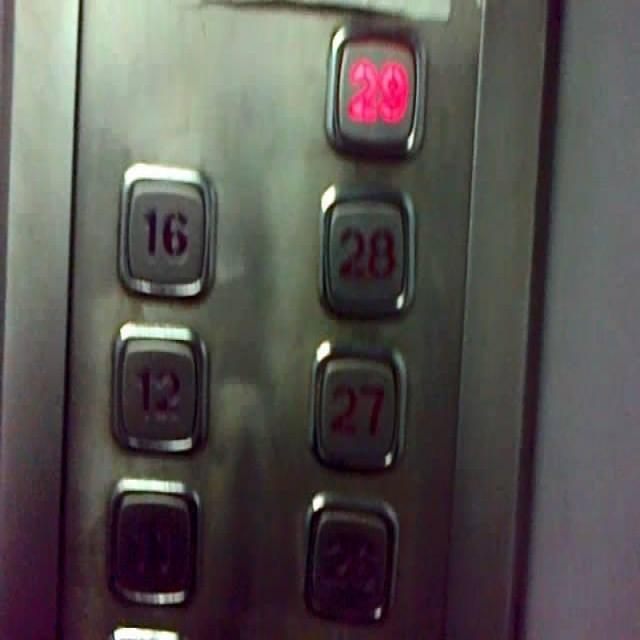12: (104, 315, 211, 460)
16: (111, 159, 218, 304)
27: (306, 335, 410, 476)
28: (315, 179, 419, 320)
29: (321, 15, 428, 161)
blur: (295, 485, 402, 631), (99, 471, 206, 616)
